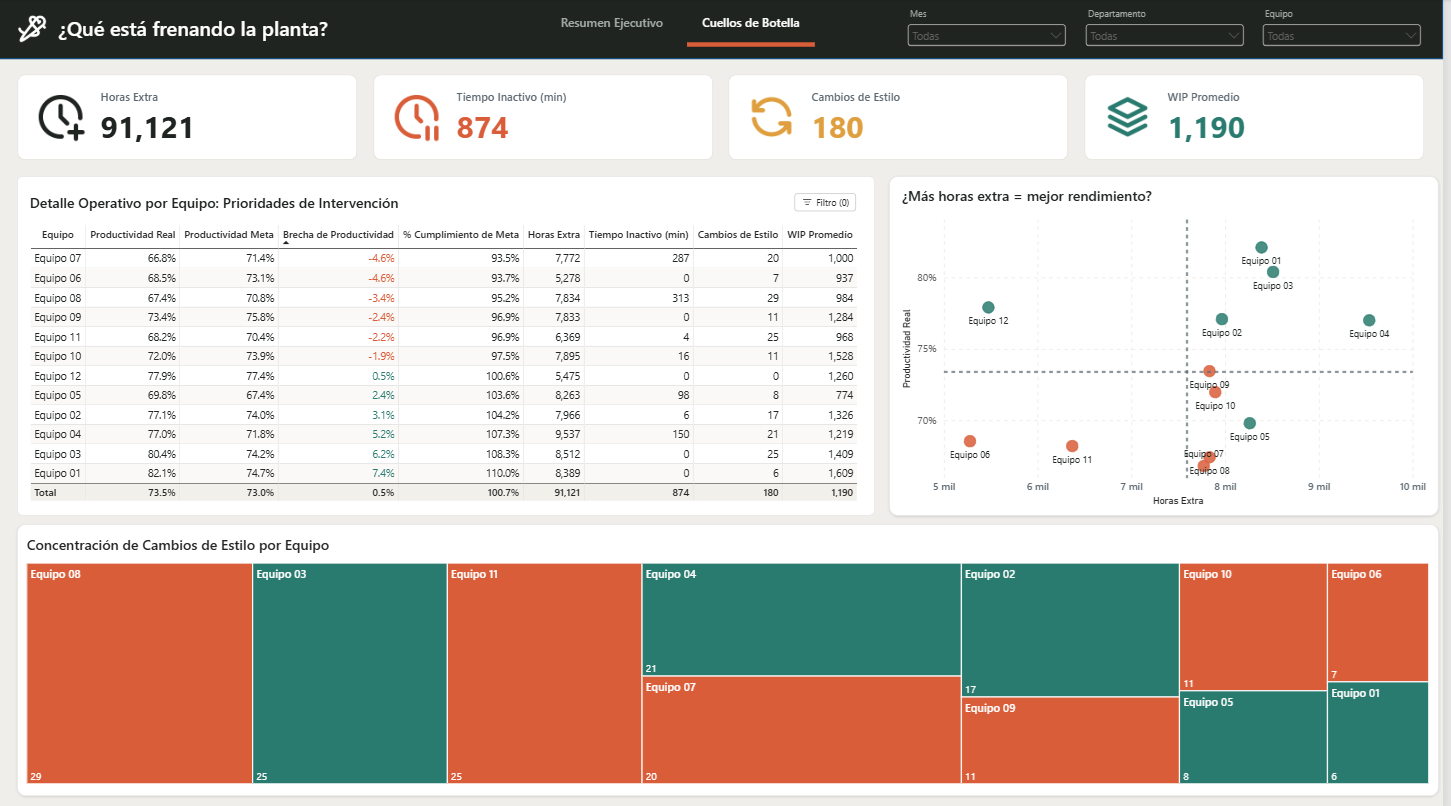

This screenshot's page, from the dashboard's own definition file:
{"tool":"powerbi","page":{"name":"Cuellos de Botella","canvas":[1920,1080],"ordinal":1},"visuals":[{"type":"shape","box":[0,0,1920.6,80],"z":0},{"type":"image","box":[24,18,42,42],"z":1000},{"type":"textbox","box":[78.5,20,560,40],"z":2000},{"type":"actionButton","box":[730,12,170,38],"z":3000},{"type":"actionButton","box":[915,12,170,38],"z":4000},{"type":"slicer","fields":{"Values":["dim_tiempo.mes_nombre"]},"box":[1204,10,220,60],"z":5000},{"type":"slicer","fields":{"Values":["dim_departamento.departamento"]},"box":[1440,10,220,60],"z":6000},{"type":"slicer","fields":{"Values":["dim_equipo.equpo"]},"box":[1676,10,220,60],"z":7000},{"type":"shape","box":[915,54,170,12],"z":8000},{"type":"cardVisual","fields":{"Data":["_Medidas.Horas Extra"]},"box":[24,100,453,115],"z":9000},{"type":"cardVisual","fields":{"Data":["_Medidas.Tiempo Inactivo (min)"]},"box":[497,100,453,115],"z":10000},{"type":"cardVisual","fields":{"Data":["_Medidas.WIP Promedio"]},"box":[1443,100,453,115],"z":11000},{"type":"cardVisual","fields":{"Data":["_Medidas.Cambios de Estilo"]},"box":[970,100,453,115],"z":12000},{"type":"scatterChart","title":"¿Más horas extra = mejor rendimiento?","fields":{"Category":["dim_equipo.equpo"],"X":["_Medidas.Horas Extra"],"Y":["_Medidas.Productividad Real"]},"box":[1183.3,235.3,731.4,451.9],"z":13000},{"type":"treemap","title":"Concentración de Cambios de Estilo por Equipo","fields":{"Group":["dim_equipo.equpo"],"Values":["_Medidas.Cambios de Estilo"]},"box":[24.1,697.9,1890.6,362.3],"z":14000},{"type":"tableEx","title":"Detalle Operativo por Equipo: Prioridades de Intervención","fields":{"Values":["dim_equipo.equpo","_Medidas.Productividad Real","_Medidas.Productividad Meta","_Medidas.Brecha de Productividad","_Medidas.% Cumplimiento de Meta","_Medidas.Horas Extra","_Medidas.Tiempo Inactivo (min)","_Medidas.Cambios de Estilo","_Medidas.WIP Promedio"]},"box":[24.1,235.3,1140.5,451.9],"z":15000}]}

Visuals, with their boxes in screenshot pixels (x1, y1, x2, y2), scaled from the page's 1920x1080 canvas onto the 1451x806 screenshot:
shape: 0 0 1450 60
image: 18 13 50 45
textbox: 59 15 483 45
actionButton: 552 9 680 37
actionButton: 691 9 820 37
slicer - dim_tiempo.mes_nombre: 910 7 1076 52
slicer - dim_departamento.departamento: 1088 7 1255 52
slicer - dim_equipo.equpo: 1267 7 1433 52
shape: 691 40 820 49
cardVisual - _Medidas.Horas Extra: 18 75 360 160
cardVisual - _Medidas.Tiempo Inactivo (min): 376 75 718 160
cardVisual - _Medidas.WIP Promedio: 1091 75 1433 160
cardVisual - _Medidas.Cambios de Estilo: 733 75 1075 160
"¿Más horas extra = mejor rendimiento?" scatterChart: 894 176 1447 513
"Concentración de Cambios de Estilo por Equipo" treemap: 18 521 1447 791
"Detalle Operativo por Equipo: Prioridades de Intervención" tableEx: 18 176 880 513
